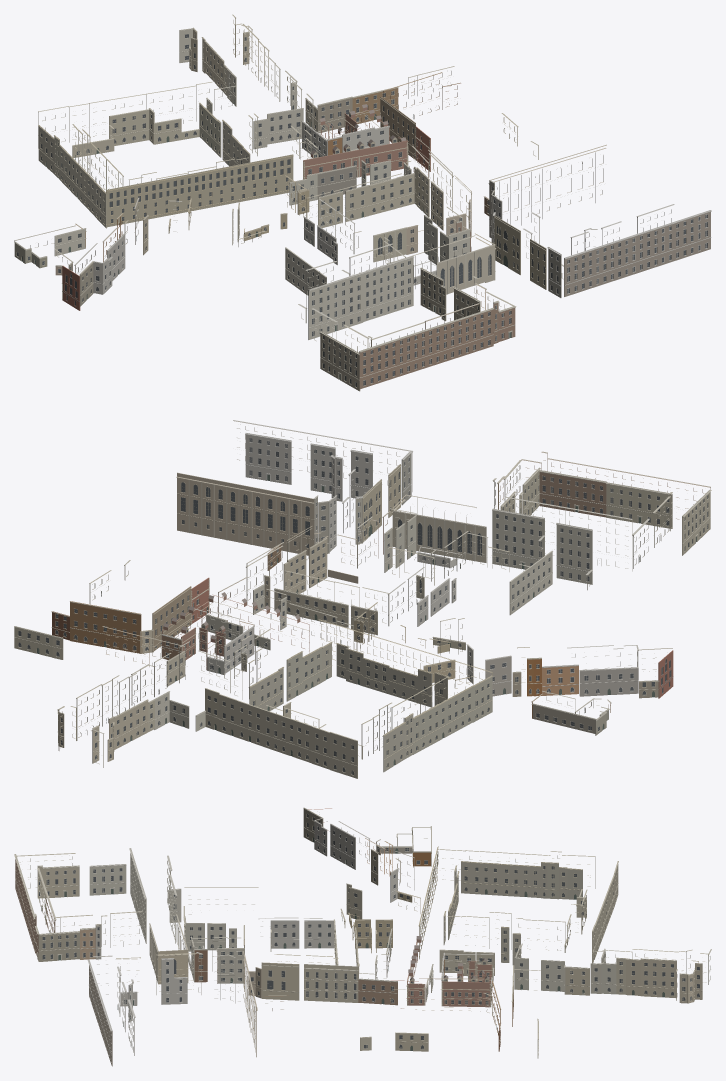
3 renders of one model, top to bottom at view 1: azimuth 30°, elevation 25°; view 2: azimuth 150°, elevation 25°; view 3: azimuth 270°, elevation 25°, orthographic. The views are drawn at different scales.
Visible parts, largest first — view 1: f:relation/9449789, f:way/135762301, f:way/139308031, f:way/139308032, f:relation/9449787, f:way/165737333, f:way/139308028, f:way/166155974, f:way/166155967, f:way/166155936, f:way/165737334, f:way/139308033 (+14 smaller); view 2: f:relation/9449789, f:way/95406725, f:way/135762301, f:way/139308031, f:relation/9449787, f:way/137017454, f:way/139308032, f:way/139308033, f:way/166155937, f:way/165737342, f:way/165737333, f:way/166155941 (+14 smaller); view 3: f:relation/9449789, f:way/165737329, f:way/135762301, f:way/166155941, f:way/139308031, f:way/166155974, f:way/139308028, f:way/166155937, f:way/165737331, f:way/165737339, f:way/139308032, f:way/165737342 (+14 smaller).
Boxes of the visible parts, x1,y1,x2,y2 form: f:relation/9449789: (38,102,293,228); f:way/135762301: (493,204,711,297); f:way/139308031: (319,303,494,391); f:way/139308032: (298,243,413,339); f:relation/9449787: (38,82,212,157); f:way/165737333: (306,173,414,227); f:way/139308028: (420,267,516,343); f:way/166155974: (206,57,313,149); f:way/166155967: (305,66,454,133); f:way/166155936: (303,135,408,179); f:way/165737334: (289,145,428,205); f:way/139308033: (397,233,496,294); f:relation/9449789: (248,619,492,772); f:way/95406725: (176,472,337,555); f:way/135762301: (233,420,412,544); f:way/139308031: (539,458,711,555); f:relation/9449787: (205,688,362,778); f:way/137017454: (51,570,209,653); f:way/139308032: (492,496,632,590); f:way/139308033: (391,494,486,562); f:way/166155937: (161,606,254,674); f:way/165737342: (542,645,638,696); f:way/165737333: (274,570,389,635); f:way/166155941: (57,679,148,763); f:relation/9449789: (418,846,595,965); f:way/165737329: (261,954,359,1002); f:way/135762301: (87,952,202,1066); f:way/166155941: (626,949,708,1003); f:way/139308031: (14,853,79,953); f:way/166155974: (514,943,622,995); f:way/139308028: (34,911,142,961); f:way/166155937: (441,952,494,1007); f:way/165737331: (258,917,334,948); f:way/165737339: (190,936,244,983); f:way/139308032: (129,848,181,943); f:way/165737342: (314,818,385,874).
Bounding box in the file's own units: 204 × 23.33 × 254.
